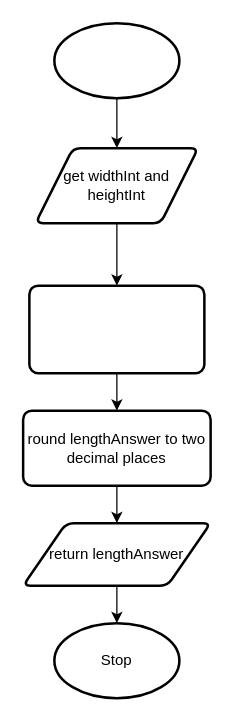
Some shapes in this 233 by 720 pixel diagram are drawn without their labels. Each missing label, with the centre of its shape:
lengthAnswer = area / widthInt / heightInt: (116,329)
Start: (116,60)
